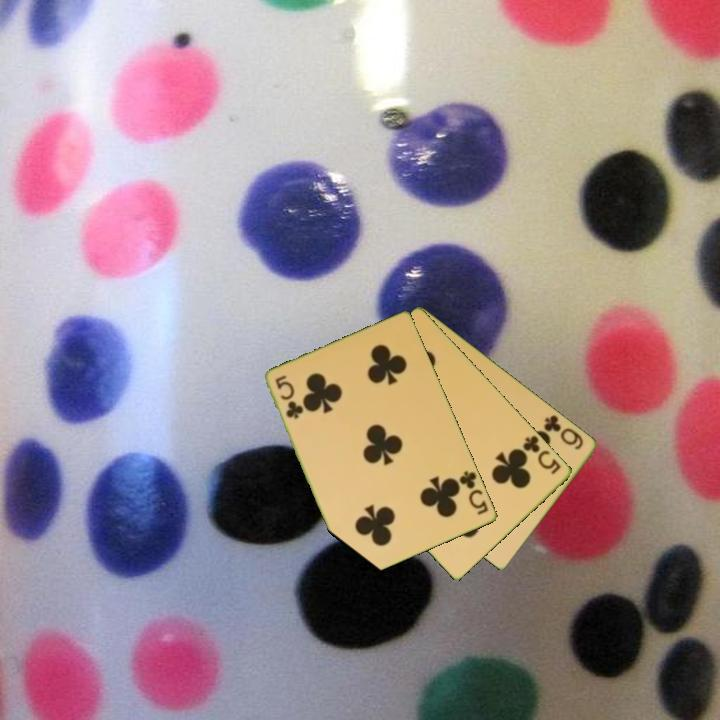5c: (518, 432, 564, 477), (454, 467, 491, 518), (272, 372, 306, 422)
6c: (541, 411, 587, 453)
